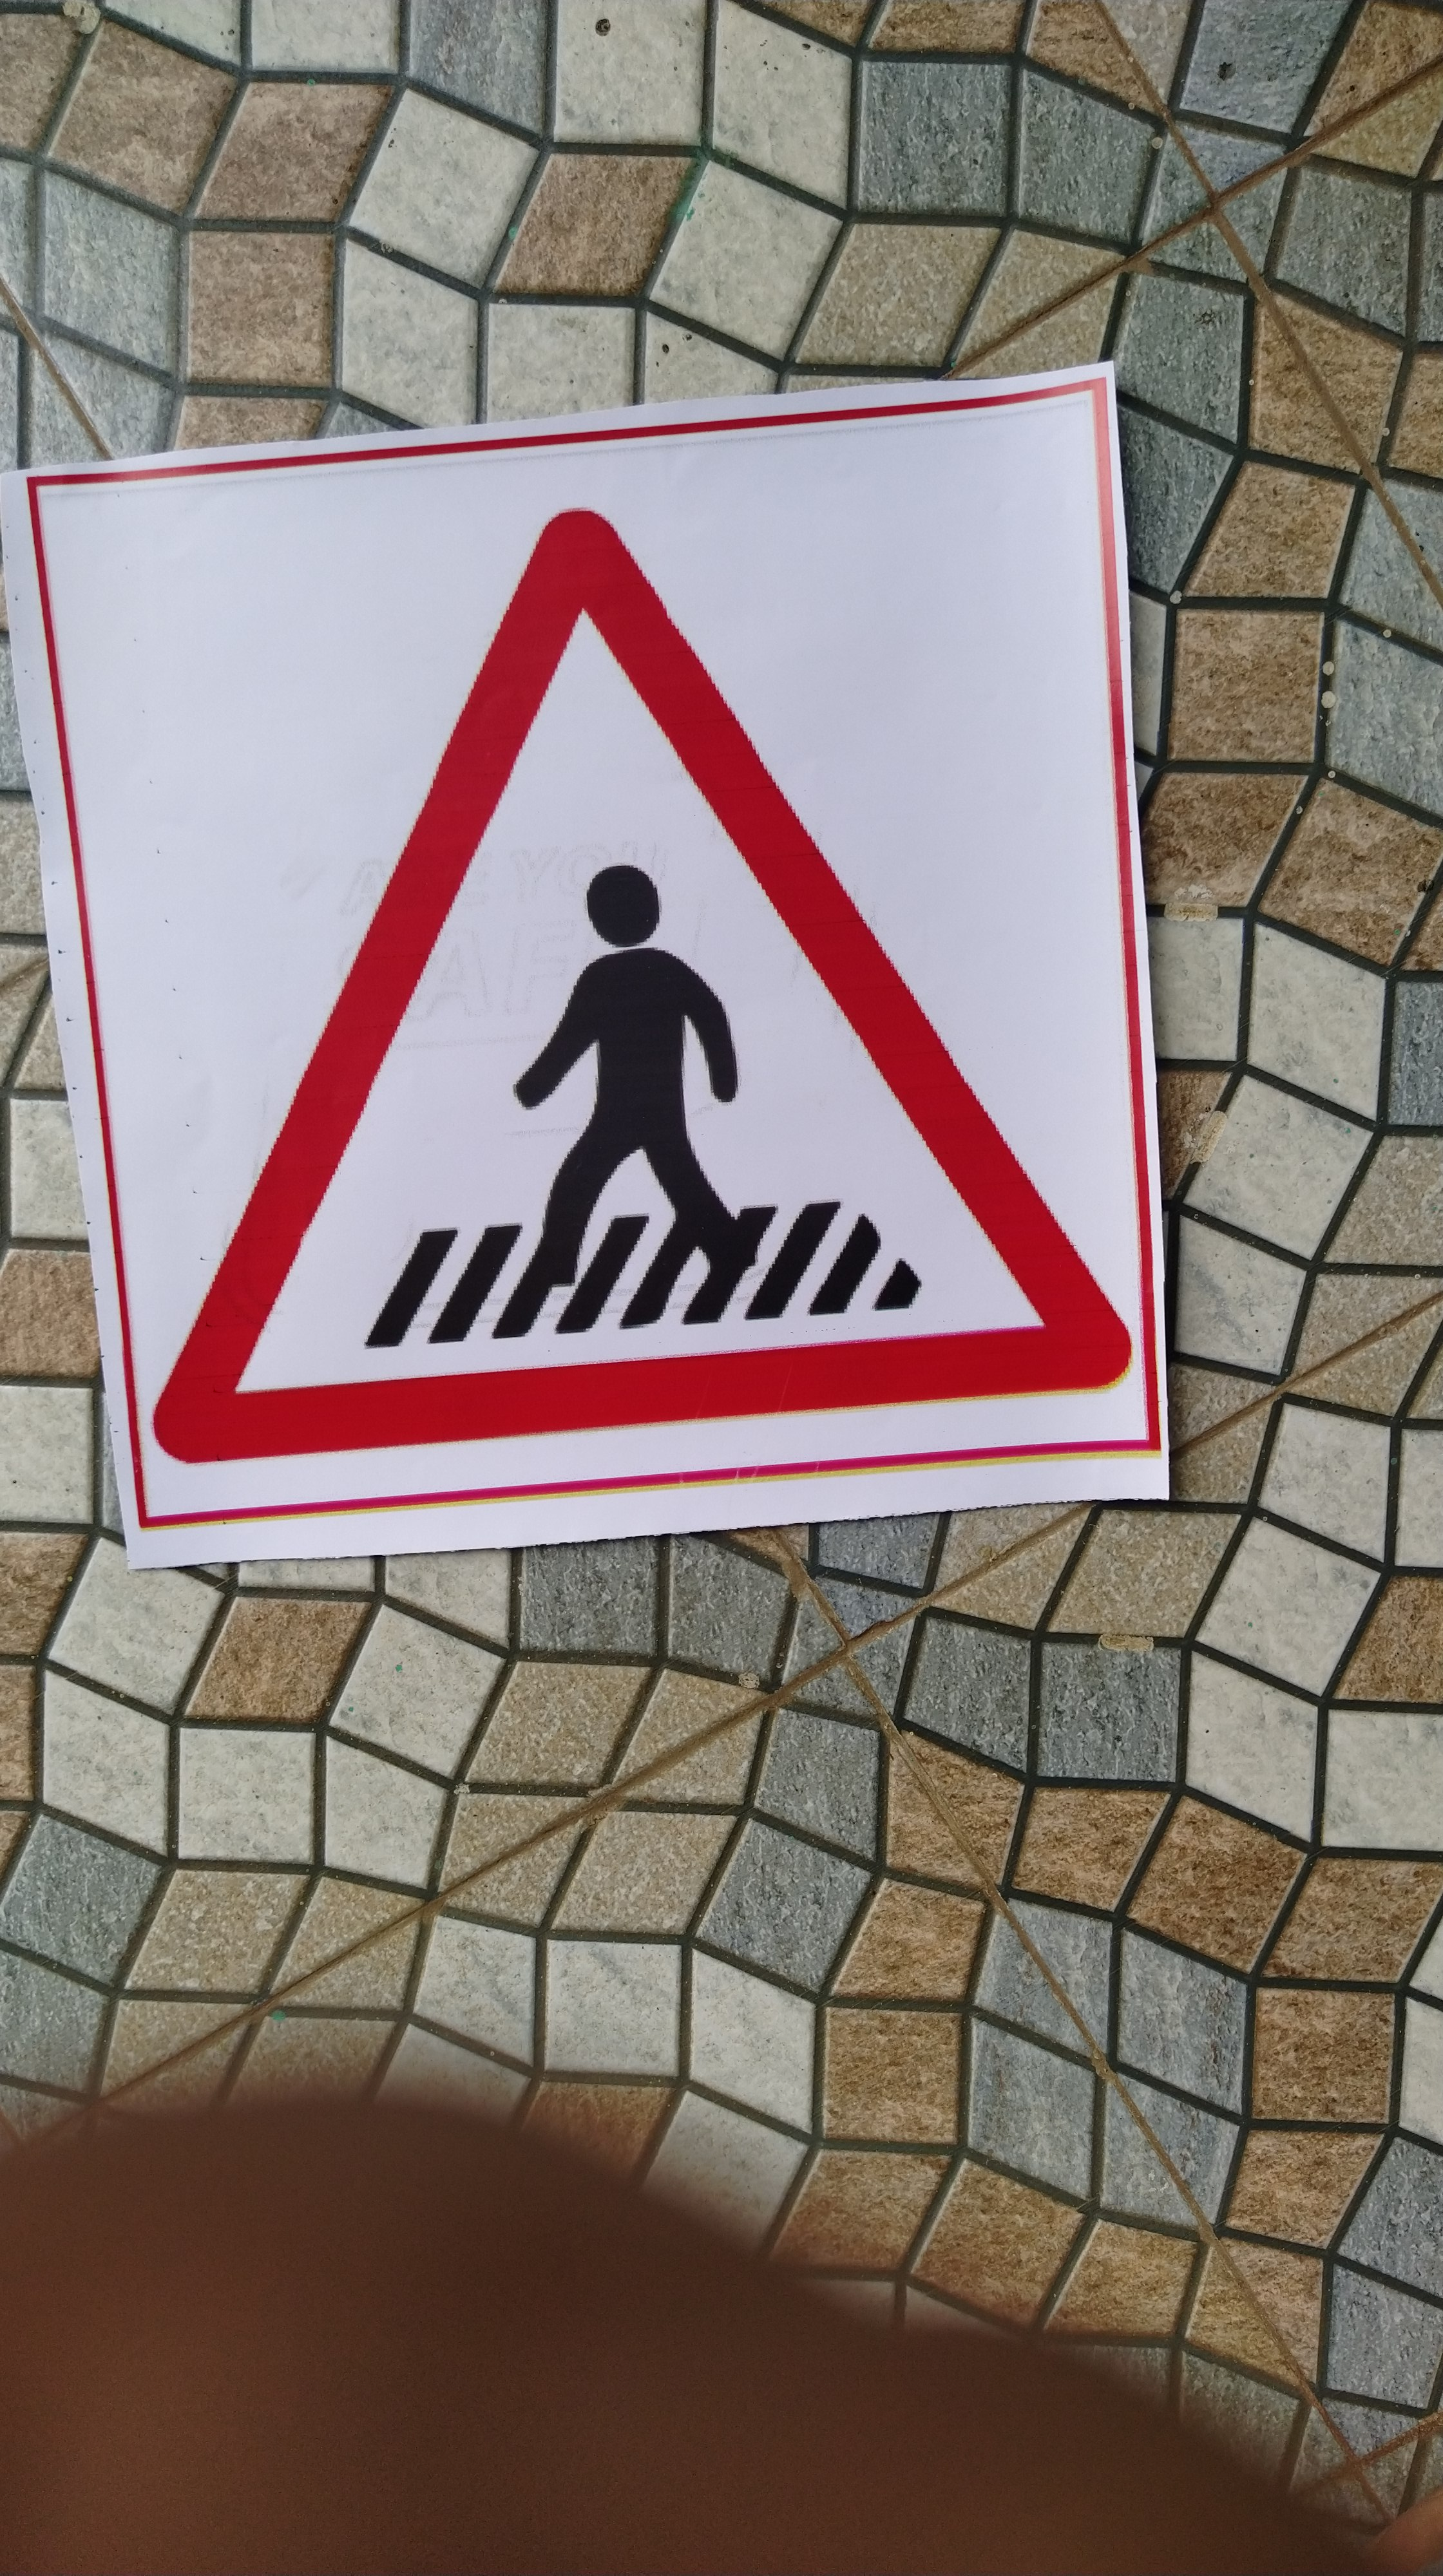pedestrain crossing: (50, 511, 1153, 1430)
